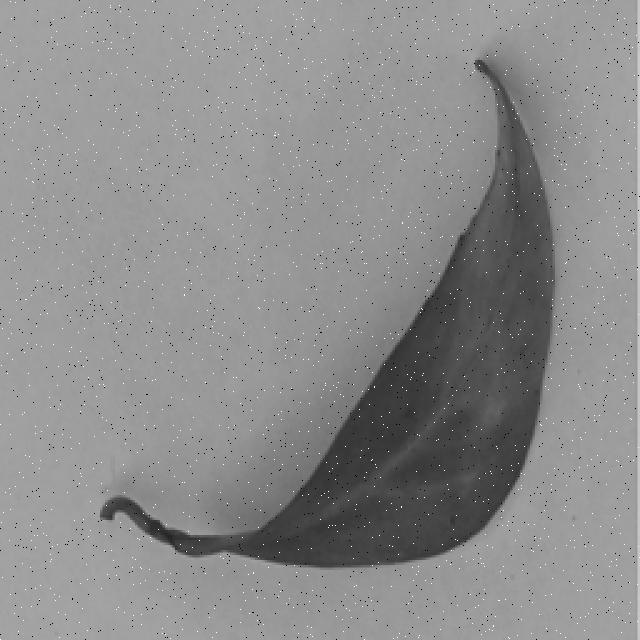greening: (98, 51, 569, 593)
